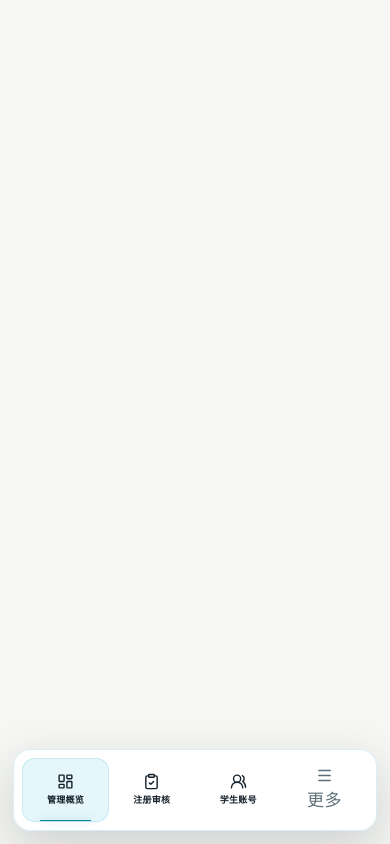
Test: application shell › makes every administrator section reachable on mobile
Step 1. Click the button with aria-label "打开更多导航" → (325, 790), box [281,758,368,822]
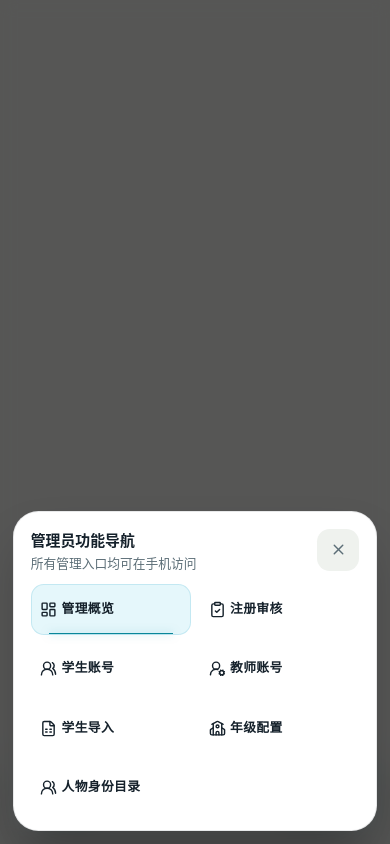
Now the link "注册审核" is shown, box [209,601,283,618]
Now the link "学生账号" is shown, box [40,660,114,677]
Now the link "学生导入" is shown, box [40,720,114,737]
